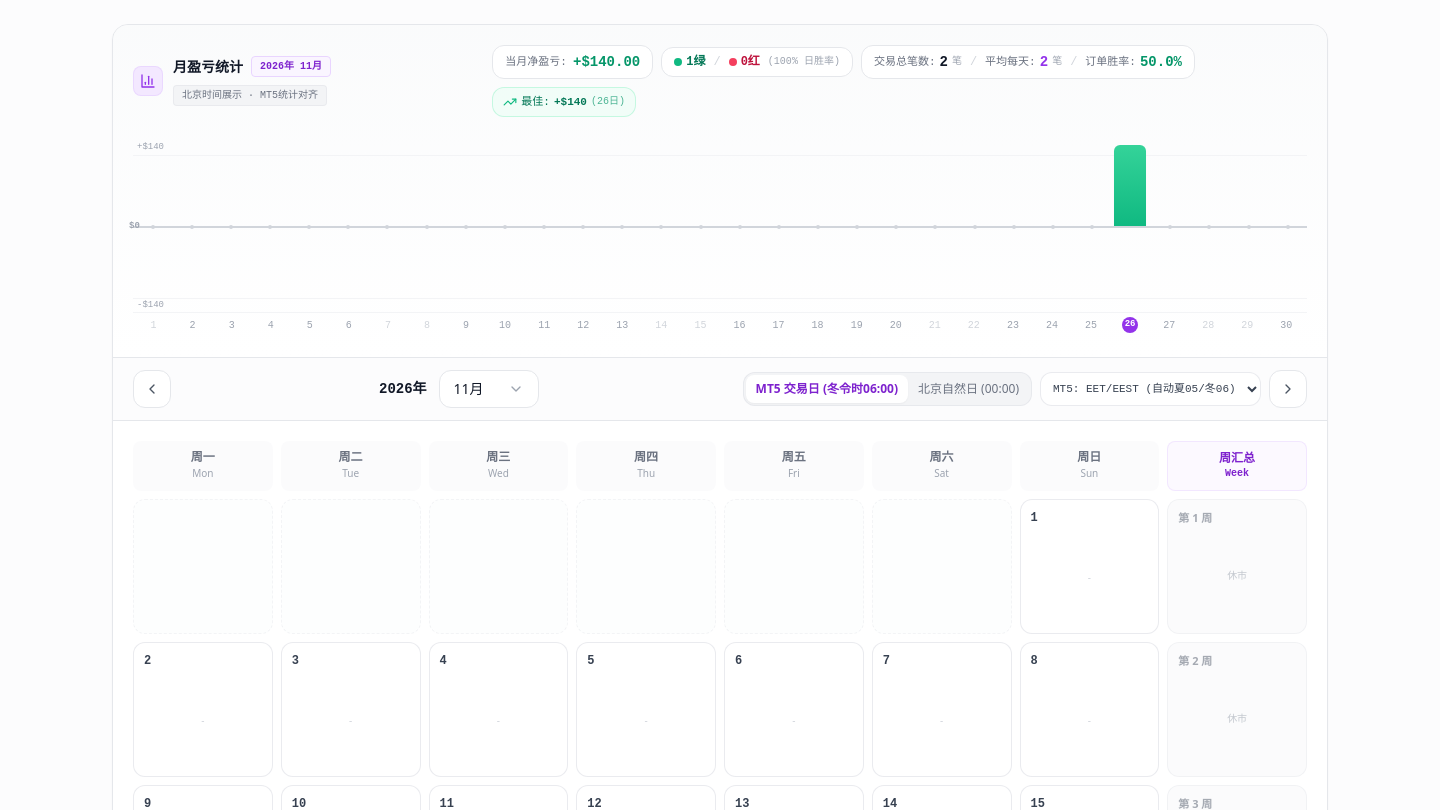
StatsPage (Trading Calendar) › renders trading calendar and matrix successfully when logged in
This screenshot has width=1440, height=810.
Expected: the text "回到今日" is not shown
Expected: the text "周汇总" is shown, x1=1219 y1=449 x2=1255 y2=466
Navigate to previous month: "回到今日" should now appear
Click the button titled "上个月".
click(152, 389)  # box x1=133 y1=370 x2=171 y2=408
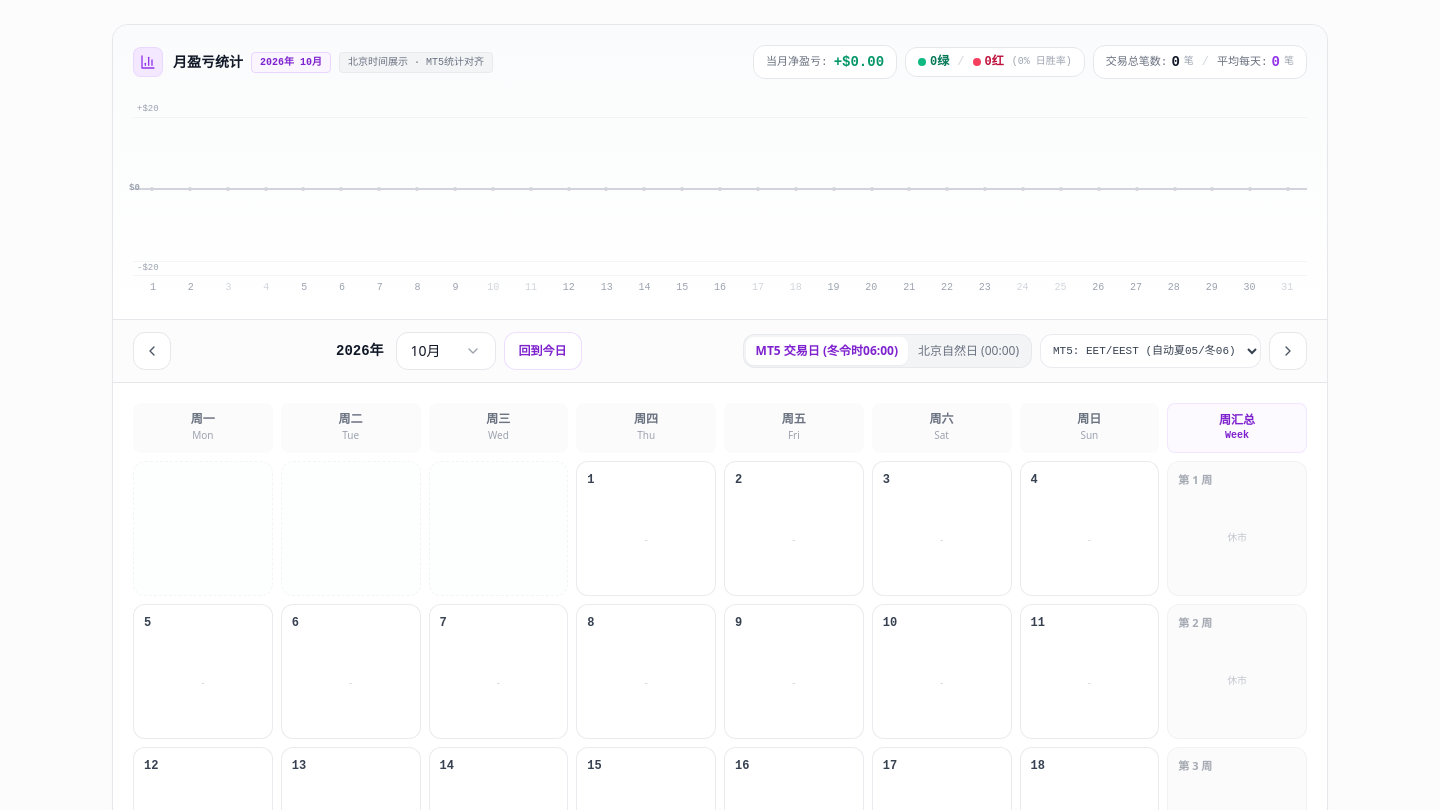
Expected: the button "回到今日" is shown
Click "回到今日": navigates back to current month and hides the button
Click the button "回到今日".
click(543, 351)  # box x1=504 y1=332 x2=582 y2=370
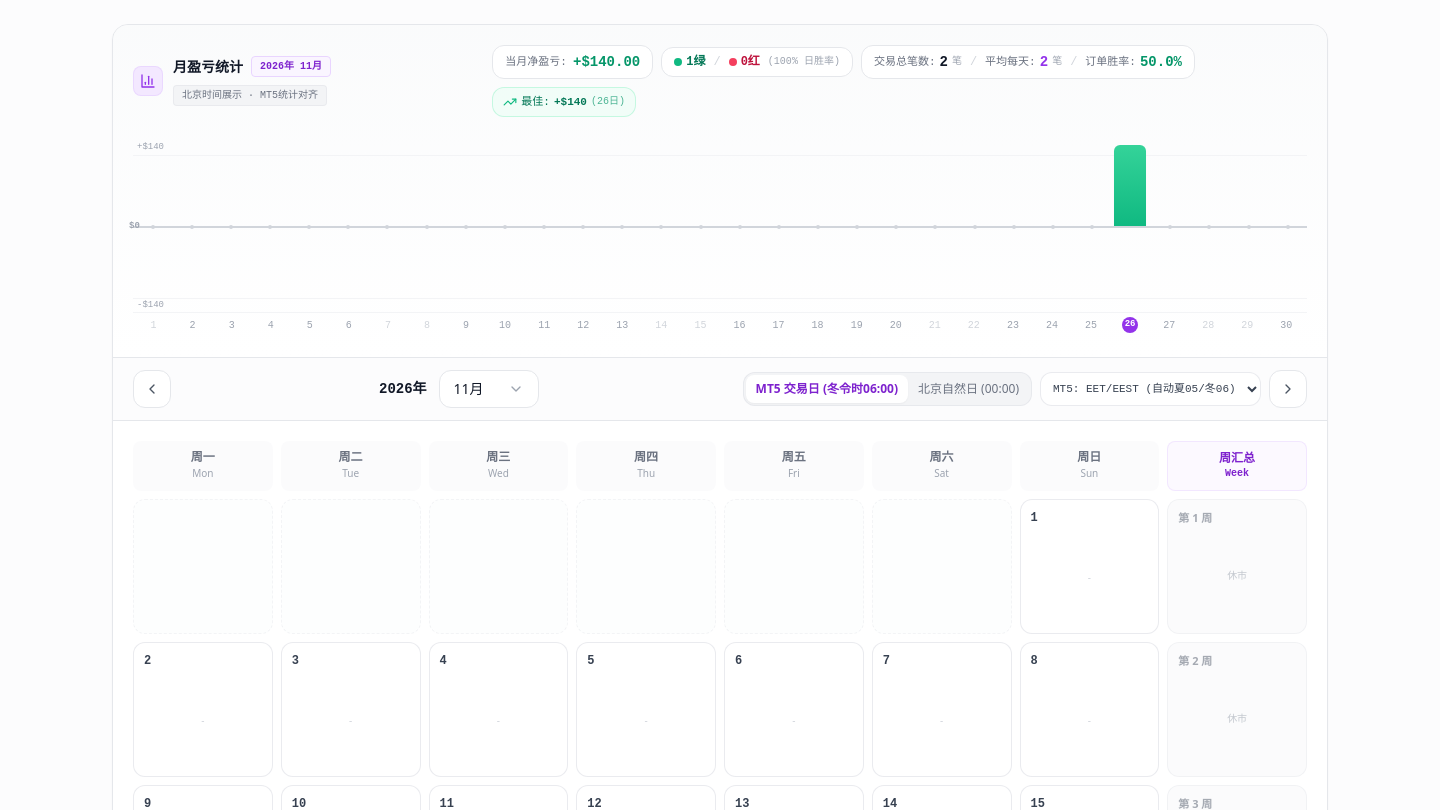
Expected: the button "回到今日" is gone
